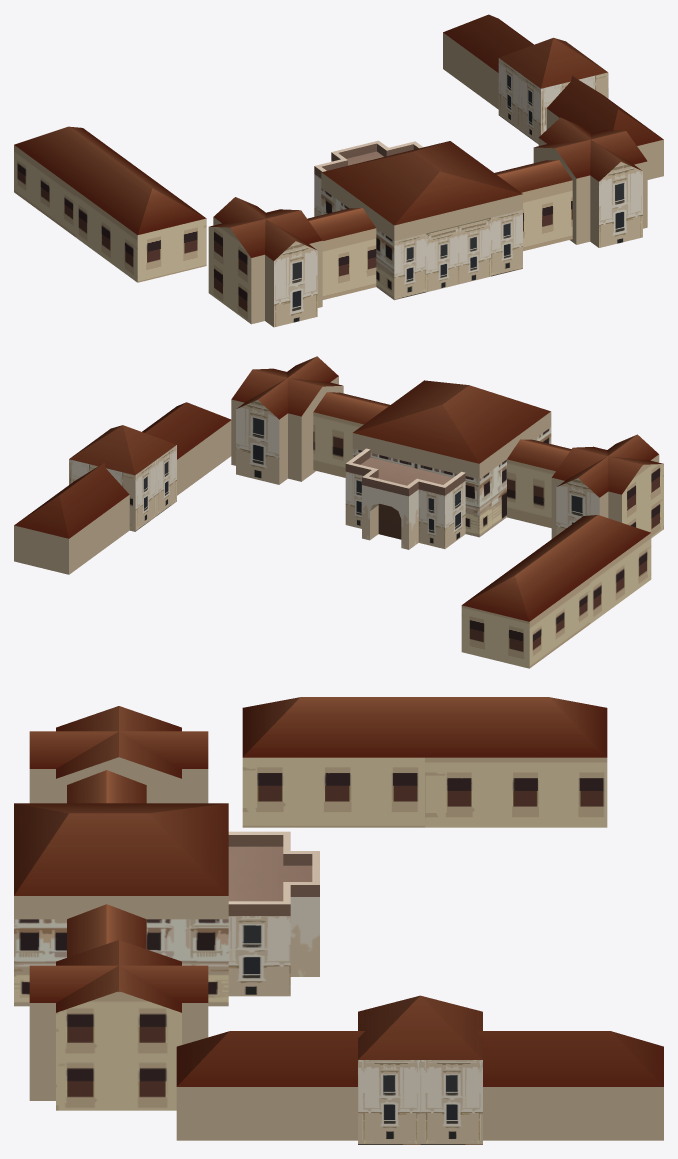
Rendered from SM_National_Library.fbx.
3 views of the same model, one above another, from view 1: azimuth 30°, elevation 25°; view 2: azimuth 150°, elevation 25°; view 3: azimuth 270°, elevation 25° (orthographic). The views are drawn at different scales.
Parts seen in each view (by area): view 1: SM_National_Library; view 2: SM_National_Library; view 3: SM_National_Library.
Boxes of the visible parts, bbox=[...] form: SM_National_Library: bbox=[14, 14, 663, 327]; SM_National_Library: bbox=[14, 356, 663, 668]; SM_National_Library: bbox=[14, 697, 663, 1144].
Size of the model in its own units: 101 by 19.35 by 75.47.
